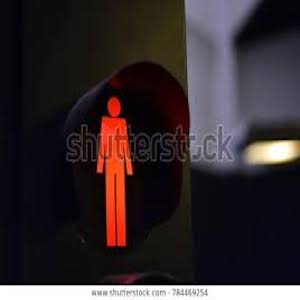red: (93, 96, 132, 250)
